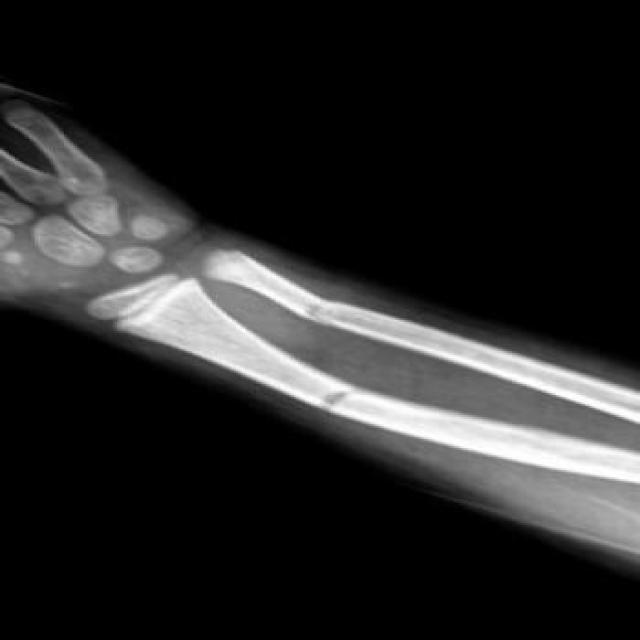Fracture: (299, 374, 370, 425), (278, 291, 355, 327)
